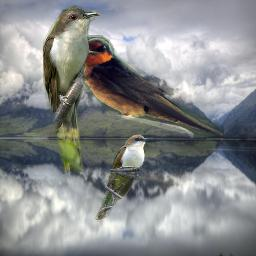Cuckoo: (43, 2, 100, 172), (94, 133, 149, 222)
Swallow: (80, 35, 224, 138)
